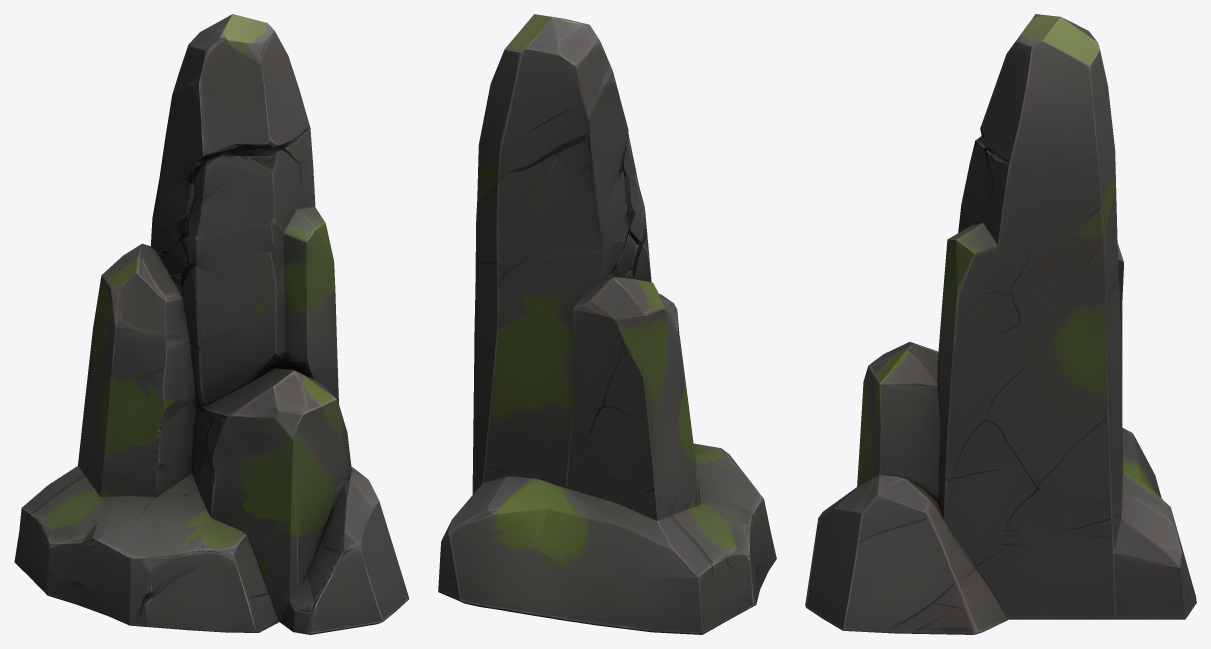
Rendered from base_basic_pbr.fbx.
3 renders of one model, left to right at view 1: azimuth 30°, elevation 25°; view 2: azimuth 150°, elevation 25°; view 3: azimuth 270°, elevation 25°, orthographic. The views are drawn at different scales.
Parts seen in each view (by area): view 1: model; view 2: model; view 3: model.
Boxes of the visible parts, x1,y1,x2,y2 form: model: (14,14,409,634); model: (438,14,776,634); model: (805,14,1196,634).
Bounding box in the file's own units: 99.72 × 184 × 113.
1 material, 1 textured.
